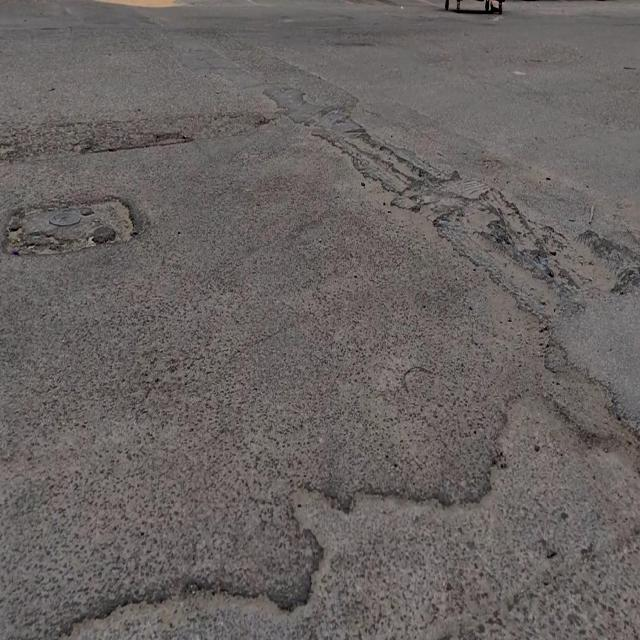Potholes: (5, 192, 137, 260)
